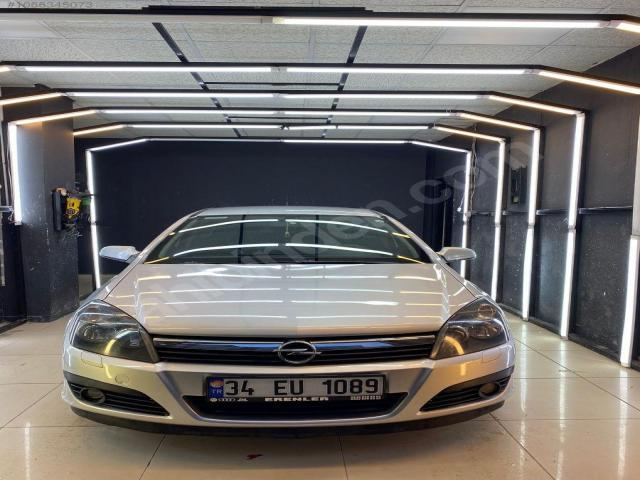plaka: (206, 375, 385, 402)
